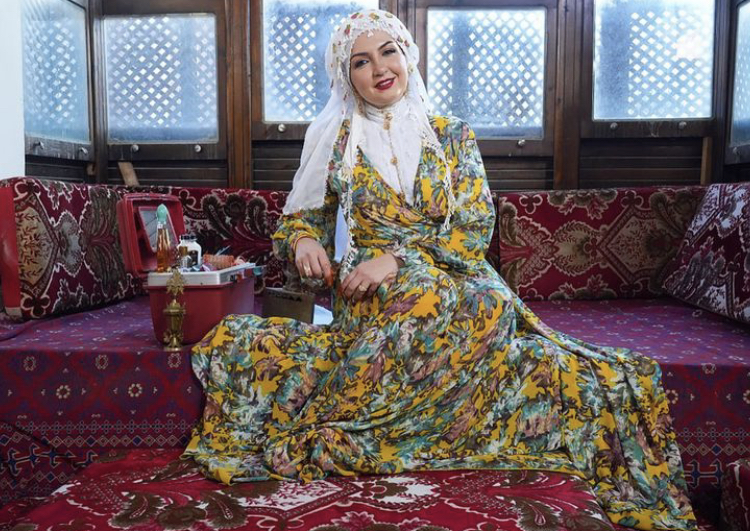Saudi_Founding_Day: (185, 7, 706, 530)
